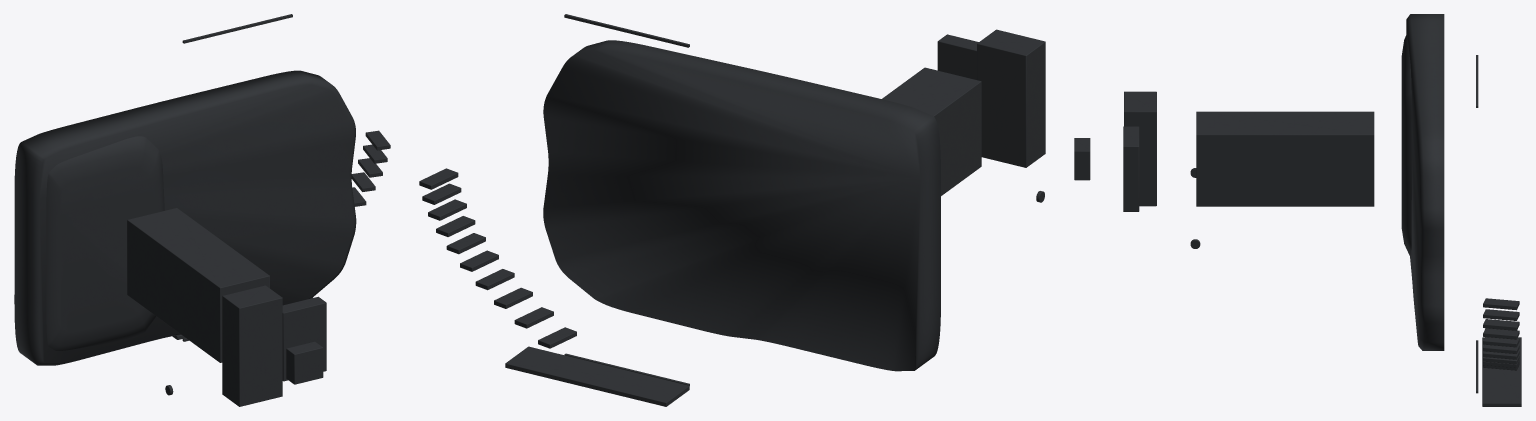
The model's file is base_link_servo_black.obj.
3 renders of one model, left to right at view 1: azimuth 30°, elevation 25°; view 2: azimuth 150°, elevation 25°; view 3: azimuth 270°, elevation 25°, orthographic. The views are drawn at different scales.
Parts seen in each view (by area): view 1: base_link__wr141e_black_upper_deck, base_link__wr141e_rear_battery_hatch, base_link__noco_gb70, base_link__power_io, base_link__wiring_distribution, base_link__active_cooler, base_link__side_lower_seam_0.196; view 2: base_link__wr141e_black_upper_deck, base_link__power_io, base_link__noco_gb70, base_link__cut_to_edge_right_insert, base_link__wiring_distribution, base_link__side_lower_seam_0.196; view 3: base_link__noco_gb70, base_link__wr141e_black_upper_deck, base_link__power_io, base_link__wr141e_rear_battery_hatch, base_link__cut_to_edge_right_insert, base_link__wiring_distribution, base_link__active_cooler.
Part boxes in pixels (left/top/right/bottom): base_link__wr141e_black_upper_deck: left=14, top=70, right=356, bottom=365; base_link__wr141e_rear_battery_hatch: left=46, top=136, right=164, bottom=350; base_link__noco_gb70: left=127, top=208, right=269, bottom=362; base_link__power_io: left=222, top=285, right=282, bottom=406; base_link__wiring_distribution: left=282, top=296, right=326, bottom=381; base_link__active_cooler: left=286, top=341, right=323, bottom=384; base_link__side_lower_seam_0.196: left=182, top=14, right=292, bottom=43; base_link__wr141e_black_upper_deck: left=543, top=40, right=940, bottom=371; base_link__power_io: left=977, top=29, right=1045, bottom=167; base_link__noco_gb70: left=882, top=67, right=981, bottom=195; base_link__cut_to_edge_right_insert: left=505, top=346, right=689, bottom=406; base_link__wiring_distribution: left=937, top=34, right=978, bottom=79; base_link__side_lower_seam_0.196: left=564, top=14, right=689, bottom=47; base_link__noco_gb70: left=1196, top=111, right=1374, bottom=206; base_link__wr141e_black_upper_deck: left=1406, top=14, right=1444, bottom=350; base_link__power_io: left=1124, top=91, right=1156, bottom=206; base_link__wr141e_rear_battery_hatch: left=1401, top=34, right=1411, bottom=257; base_link__cut_to_edge_right_insert: left=1482, top=337, right=1521, bottom=406; base_link__wiring_distribution: left=1123, top=126, right=1139, bottom=211; base_link__active_cooler: left=1074, top=138, right=1090, bottom=180.
Bounding box in the file's own units: 0.5537 × 0.395 × 0.5575.
Materials: 1 (1 with a texture image).
